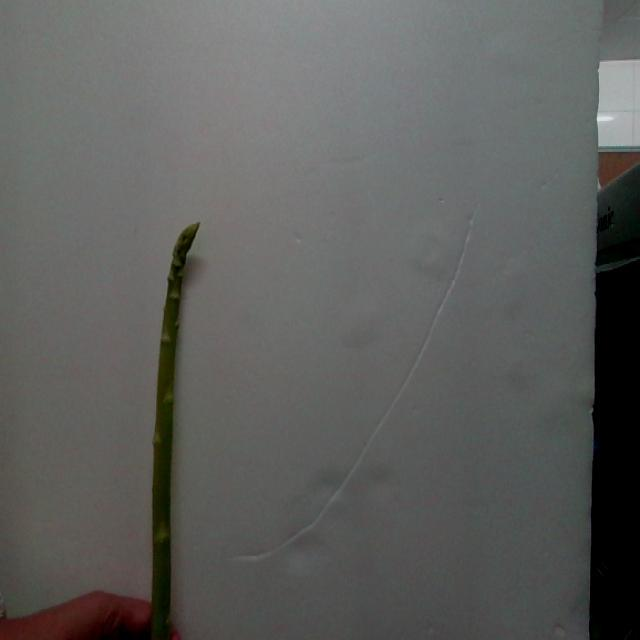aspargus: (150, 224, 201, 640)
